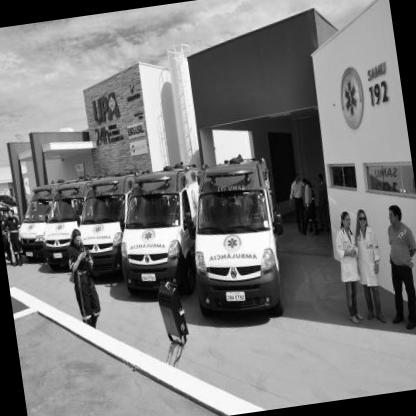ambulance: (185, 150, 300, 325), (99, 155, 211, 308), (62, 174, 146, 276), (34, 186, 92, 269)
